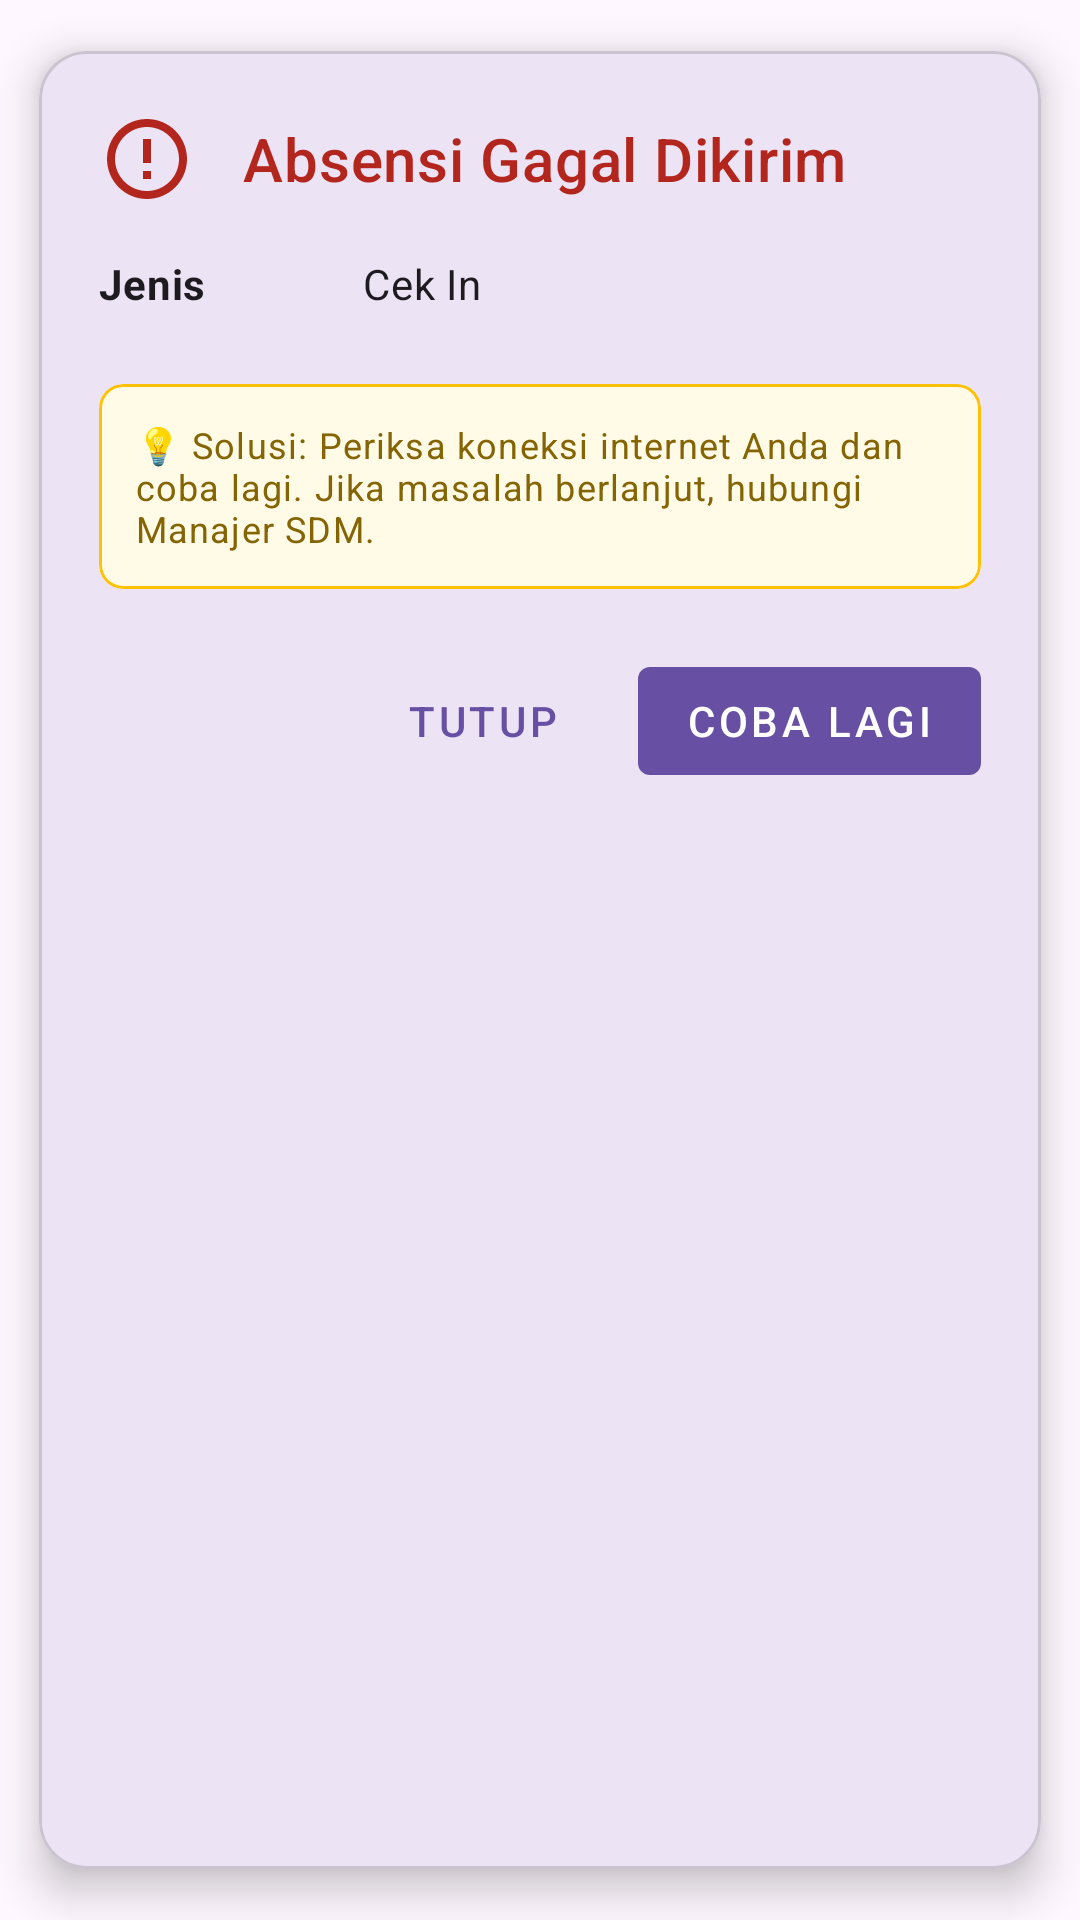

Icon bounding boxes for this 1080*1920 phone screenshot, format (x1, y1, x2, y2):
Error icon: (107, 119, 187, 199)
